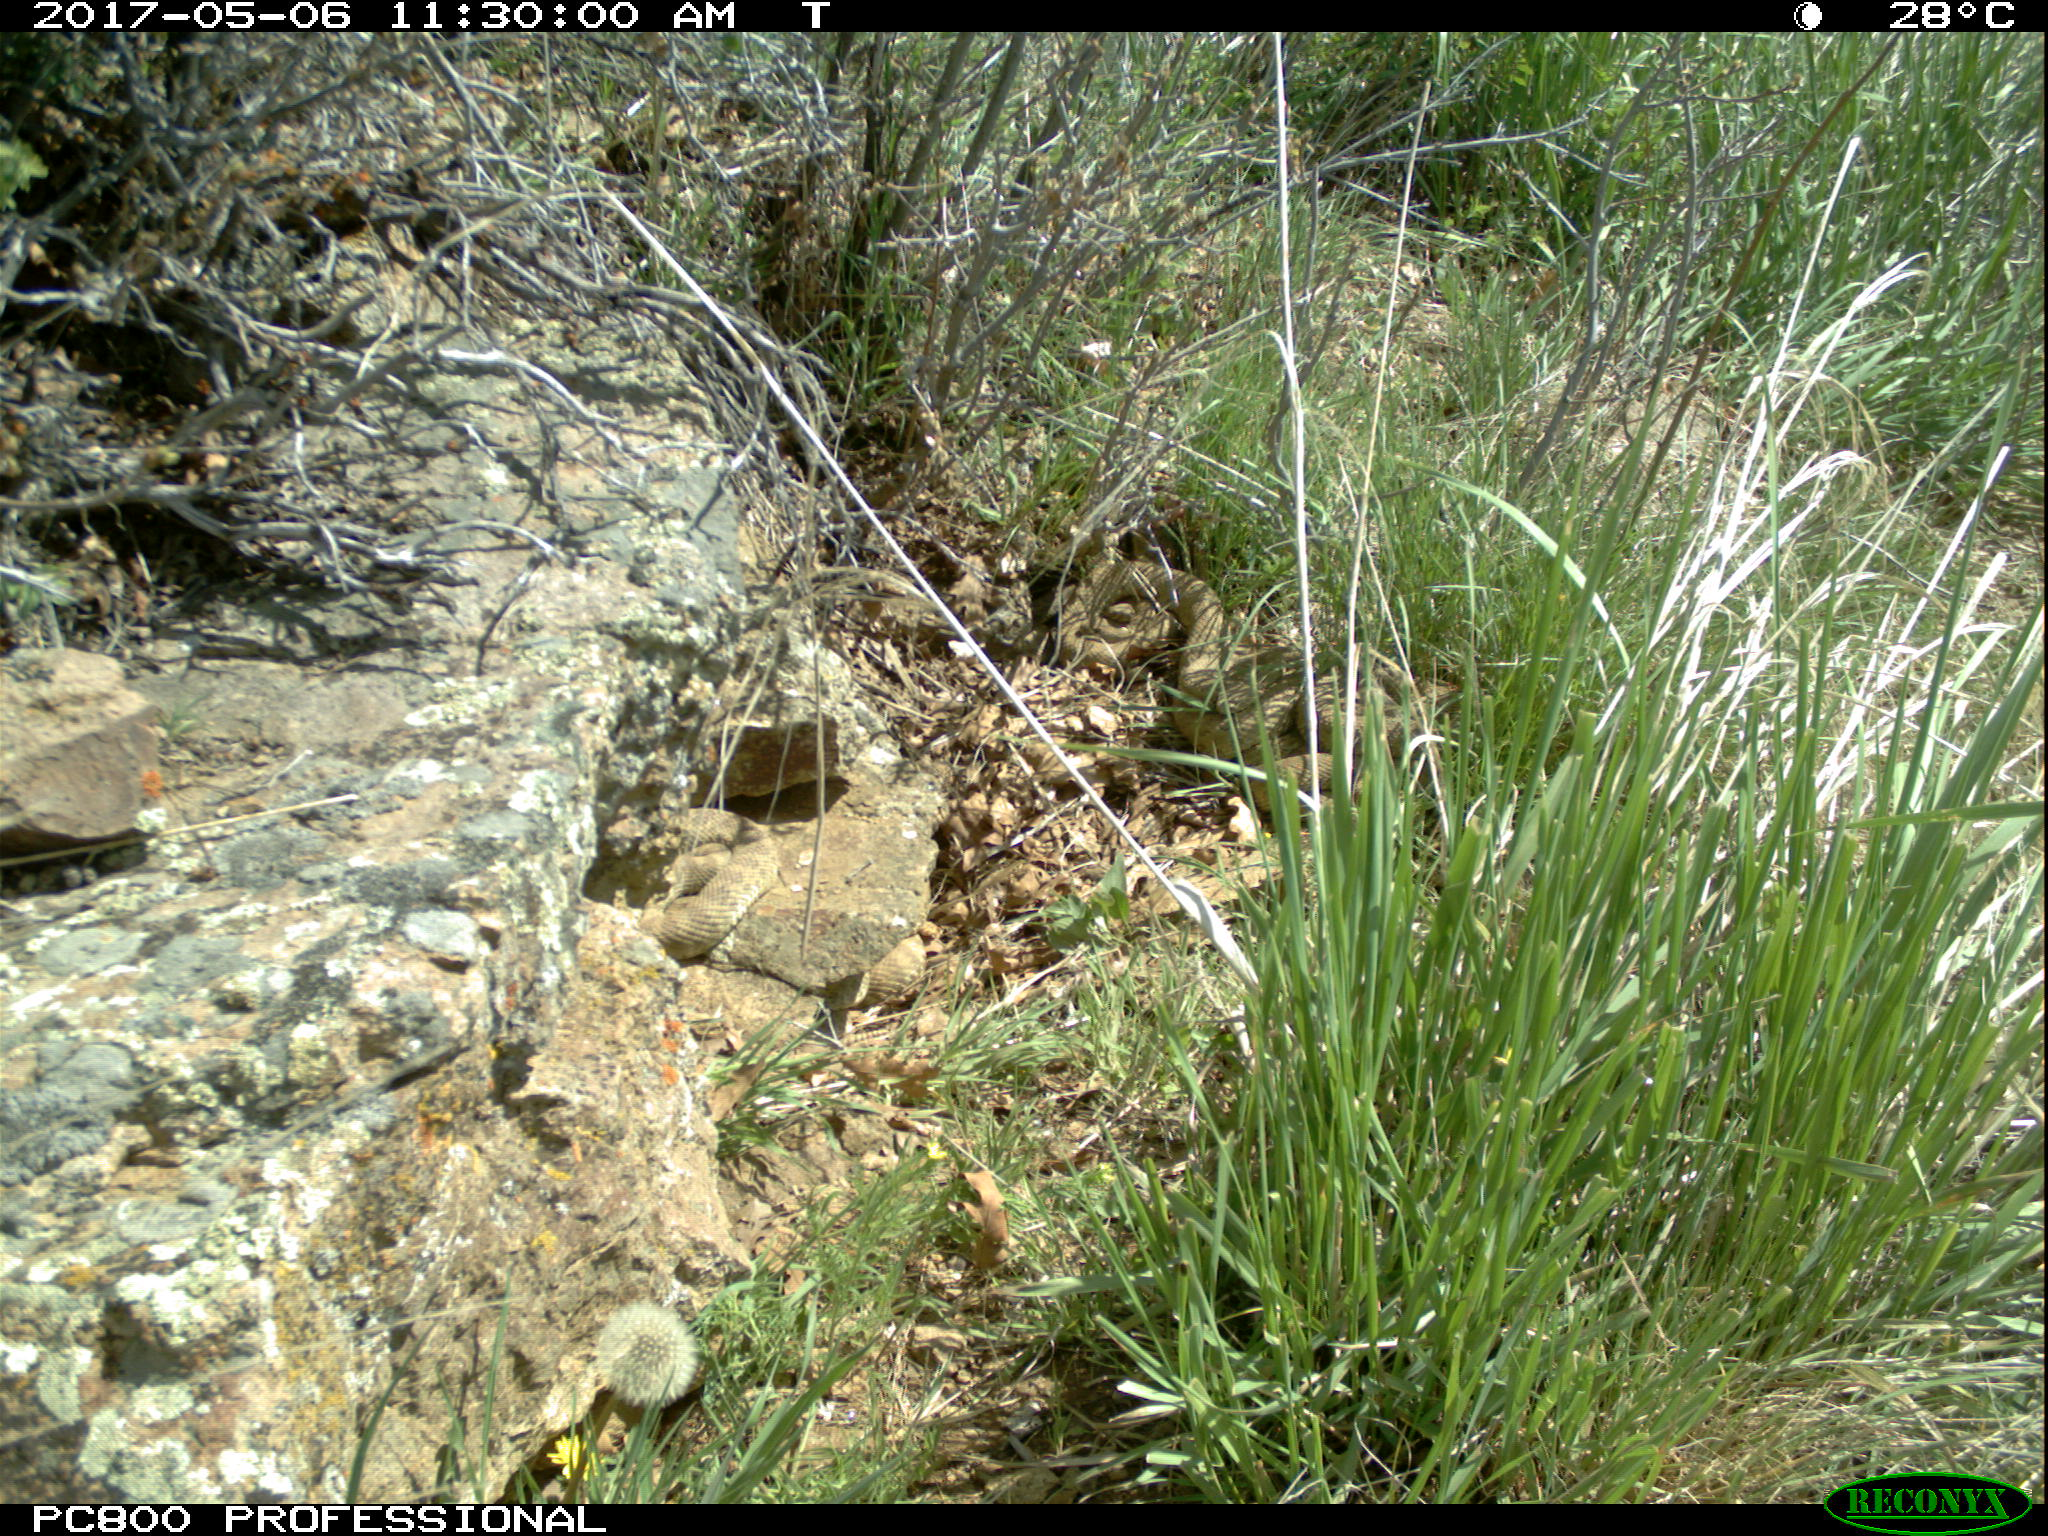snake: (1056, 558, 1429, 792), (653, 799, 787, 949), (860, 931, 942, 1007)
